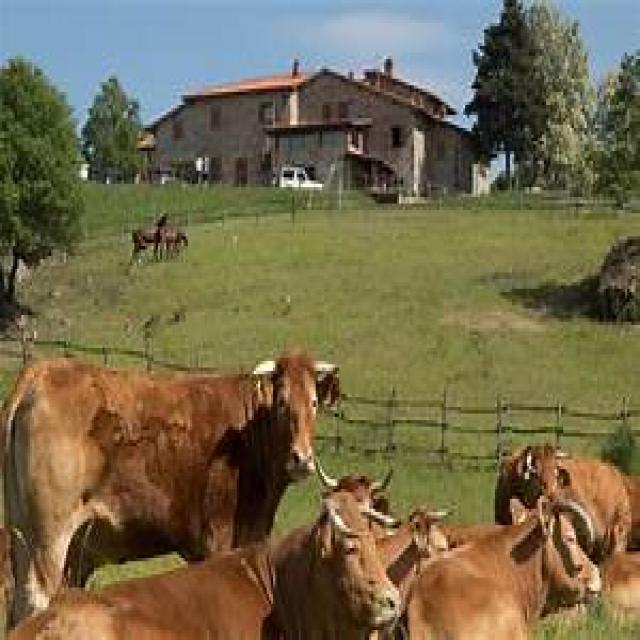cow: (0, 348, 341, 637), (6, 528, 401, 640), (405, 499, 602, 640)
